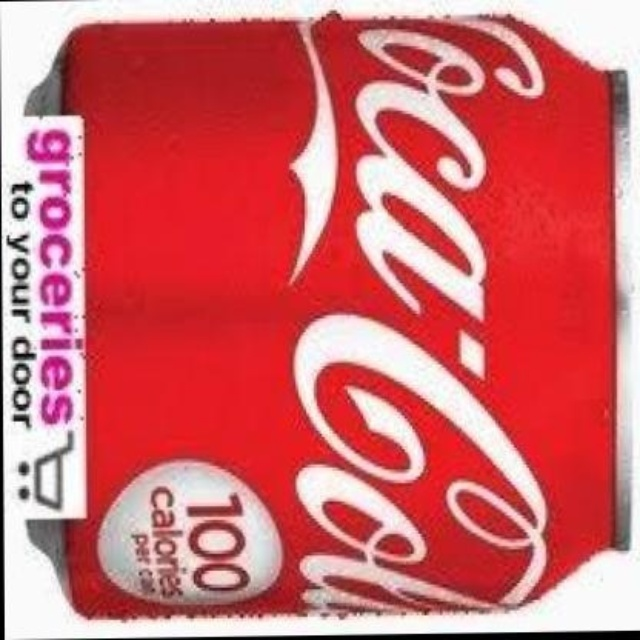trash: (52, 17, 614, 617)
